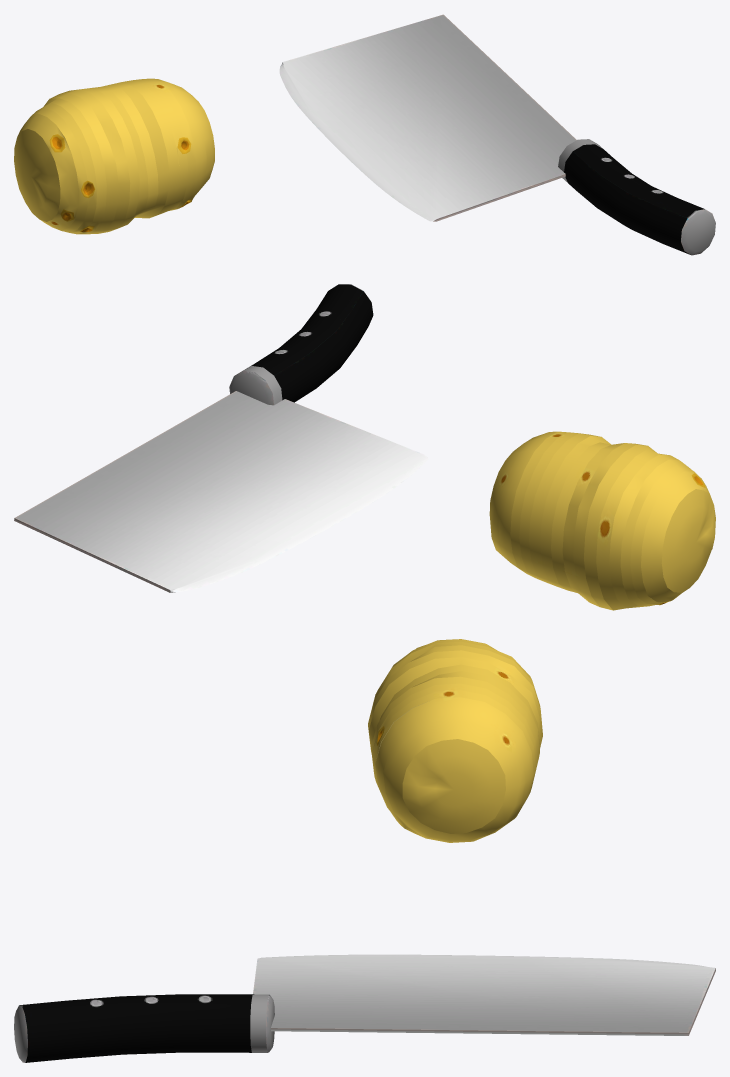
3 views of the same model, one above another, from view 1: azimuth 30°, elevation 25°; view 2: azimuth 150°, elevation 25°; view 3: azimuth 270°, elevation 25° (orthographic). The views are drawn at different scales.
Visible parts, largest first — view 1: dao, Bone01; view 2: dao, Bone01; view 3: dao, Bone01.
Part boxes in pixels (x1,y1,x2,y2): dao: [279, 14, 715, 255]; Bone01: [14, 78, 214, 234]; dao: [14, 284, 428, 592]; Bone01: [489, 431, 715, 610]; dao: [14, 954, 715, 1062]; Bone01: [368, 639, 542, 842].
Size of the model in its own units: 29.26 by 7.28 by 28.86.
